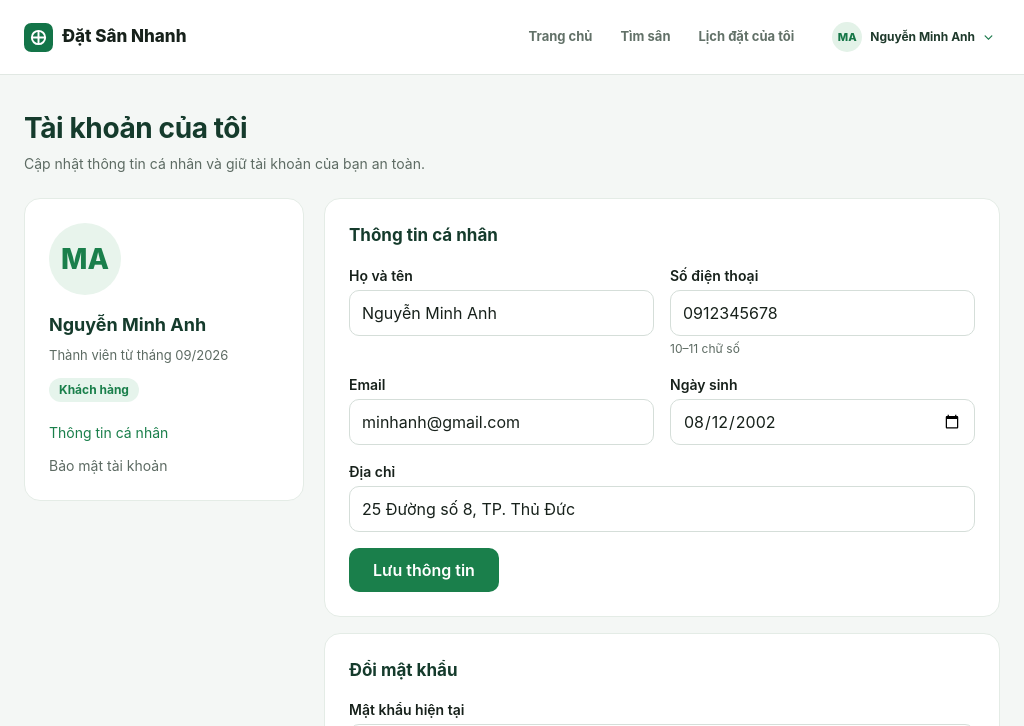
Test: AccountPage › xóa họ tên rồi lưu thì báo lỗi và không gọi server
Clear the field labelled "Họ và tên". click: (502, 312)
box: [350,290,653,334]
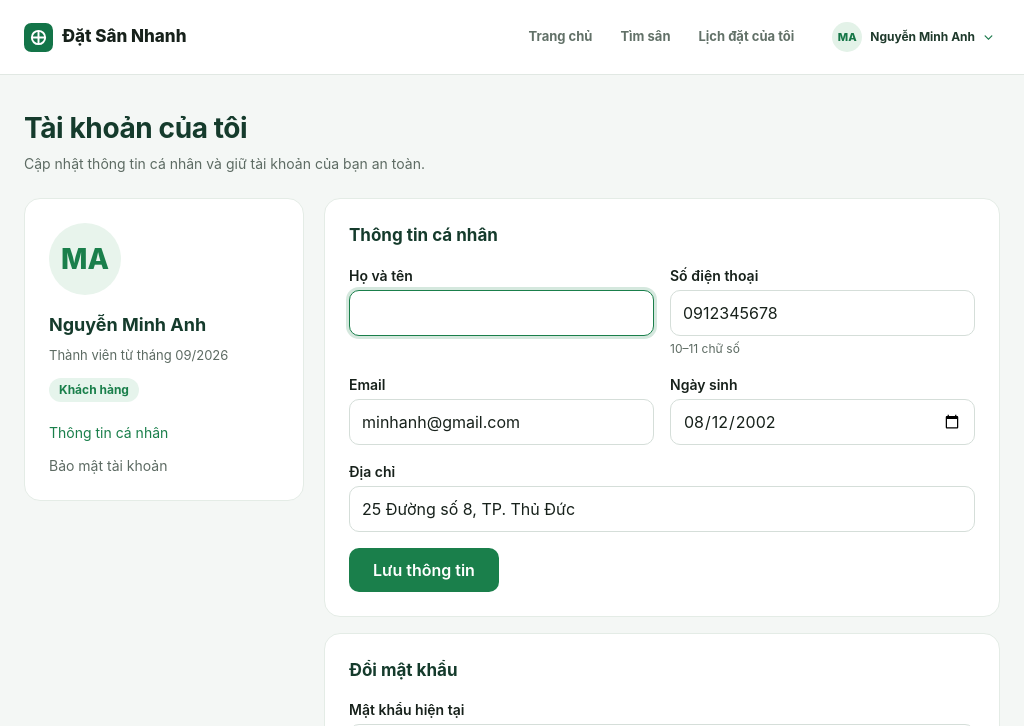
Click the button "Lưu thông tin". click: (424, 570)
box: [349,548,499,592]
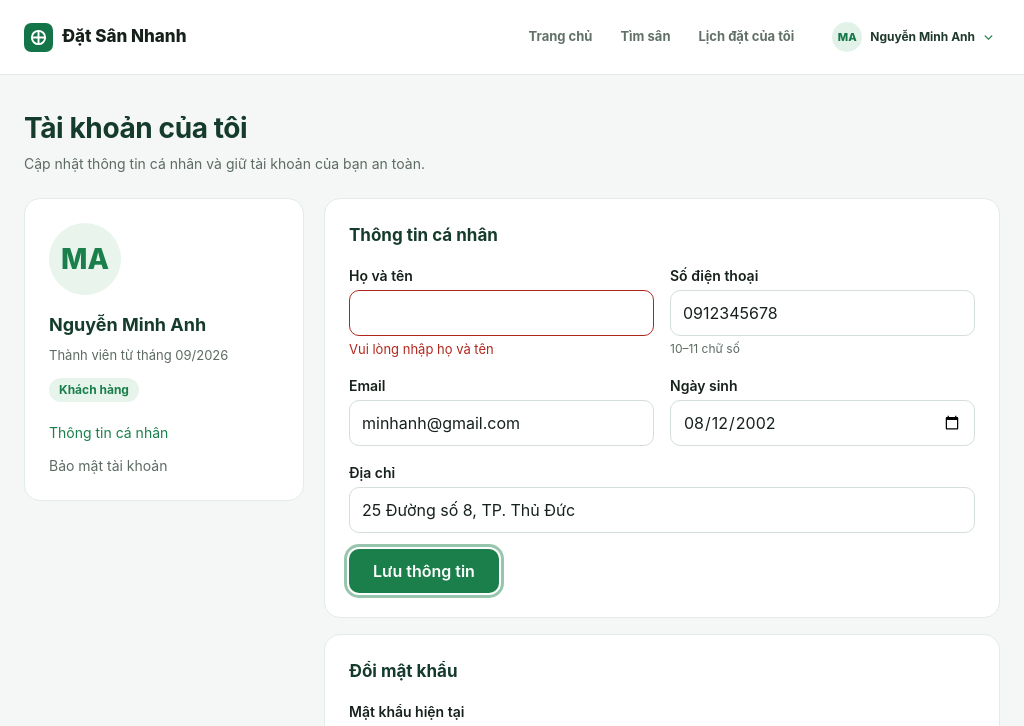
expect the text "Vui lòng nhập họ và tên" is shown: met, box [349,340,494,356]
